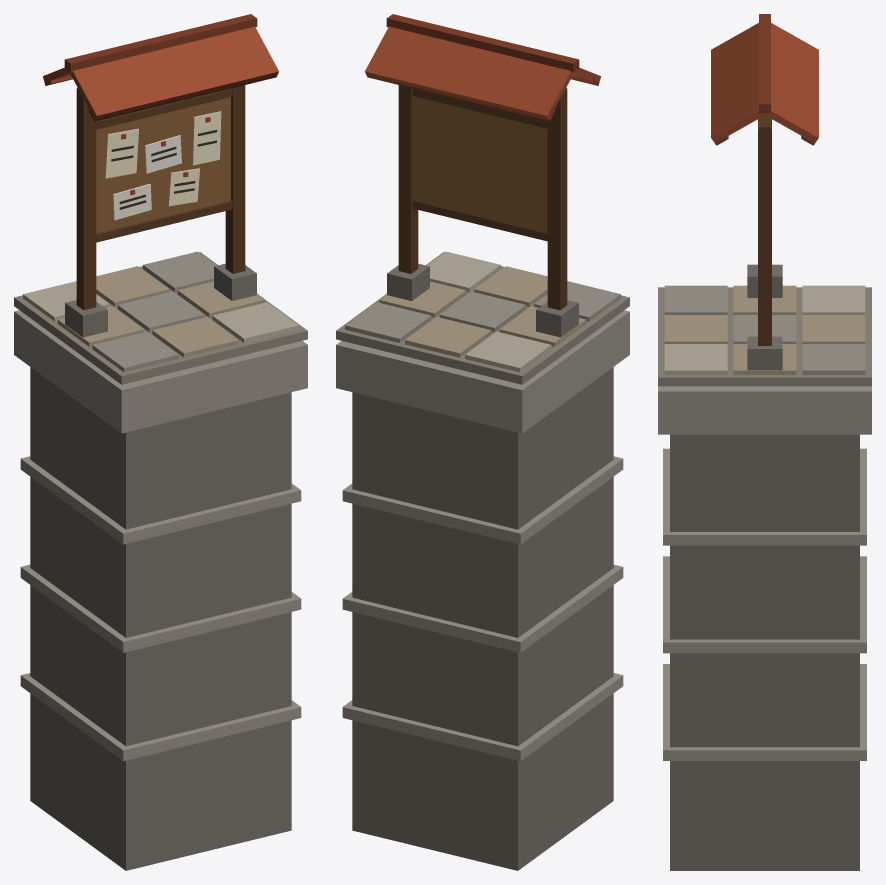
File: decor_notice_board.glb
The picture shows the model from 3 angles, left to right: view 1: azimuth 30°, elevation 25°; view 2: azimuth 150°, elevation 25°; view 3: azimuth 270°, elevation 25°; orthographic projection.
Visible parts, largest first — view 1: decor_notice_board; view 2: decor_notice_board; view 3: decor_notice_board.
Boxes of the visible parts, bbox=[...] form: decor_notice_board: bbox=[14, 14, 307, 870]; decor_notice_board: bbox=[336, 14, 629, 870]; decor_notice_board: bbox=[658, 14, 871, 870].
Size of the model in its own units: 1.8 by 7.17 by 1.8.
